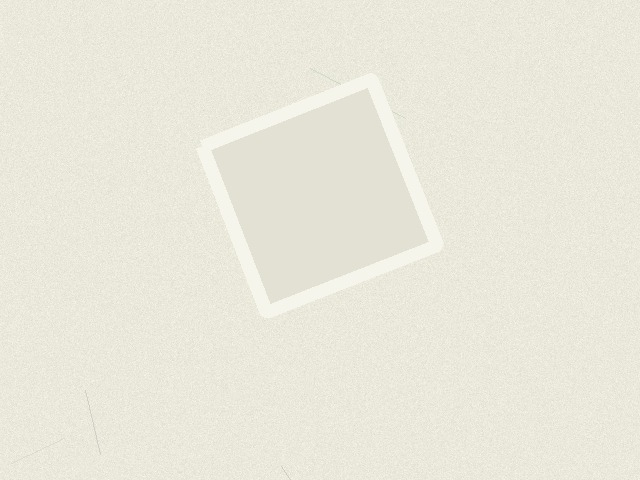parking_area: (202, 79, 437, 312)
